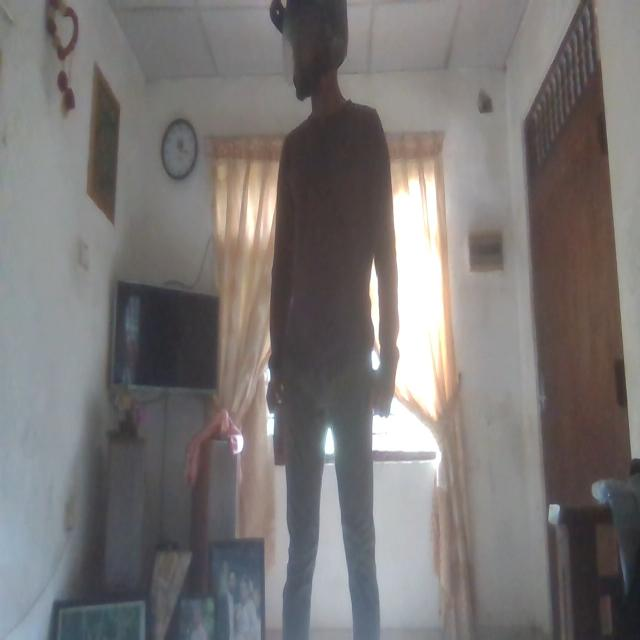Helmet_Wearer: (270, 0, 356, 110)
Person: (256, 0, 402, 640)
